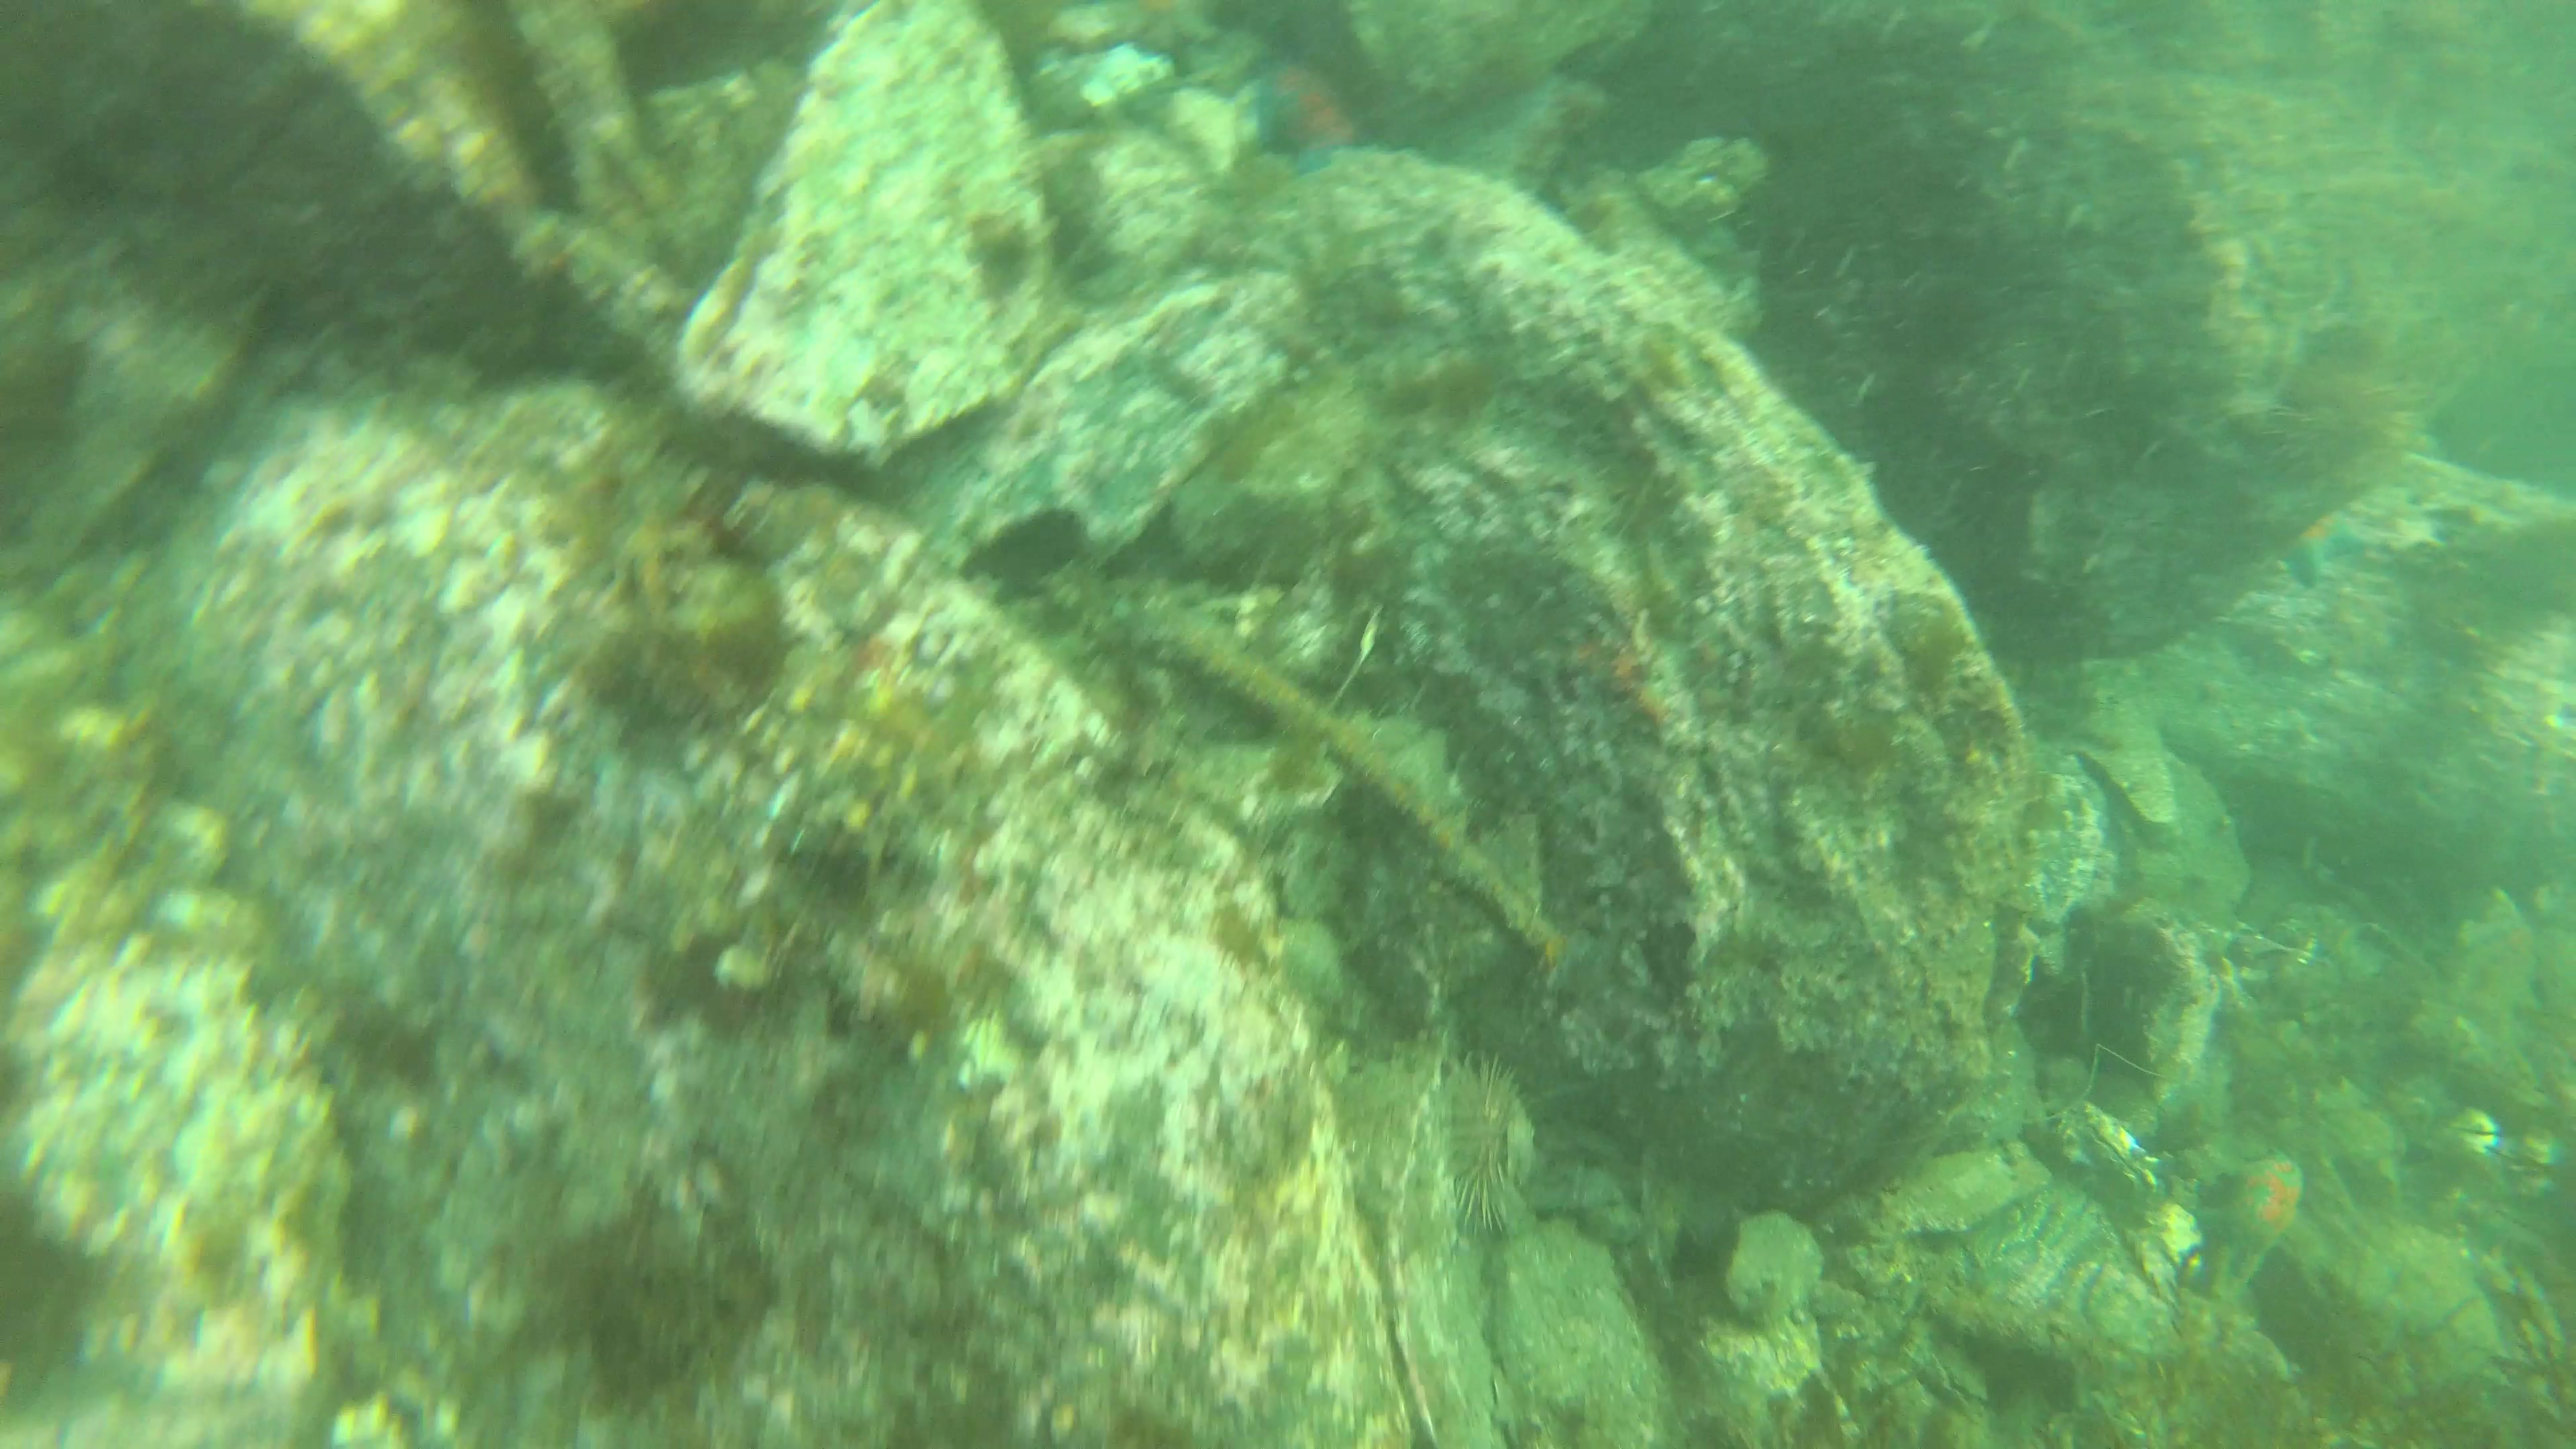echinus: (1422, 1046, 1530, 1235)
starfish: (1240, 41, 1380, 175)
